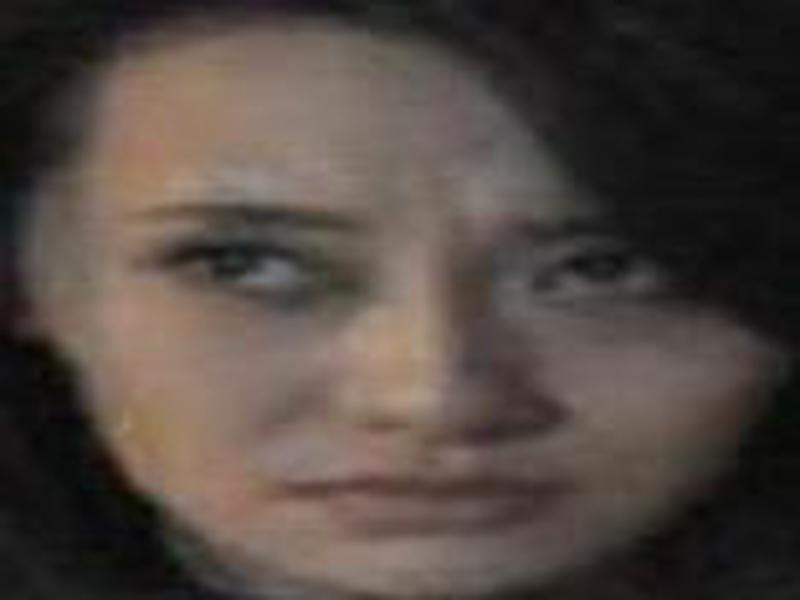without_mask: (21, 108, 778, 600)
